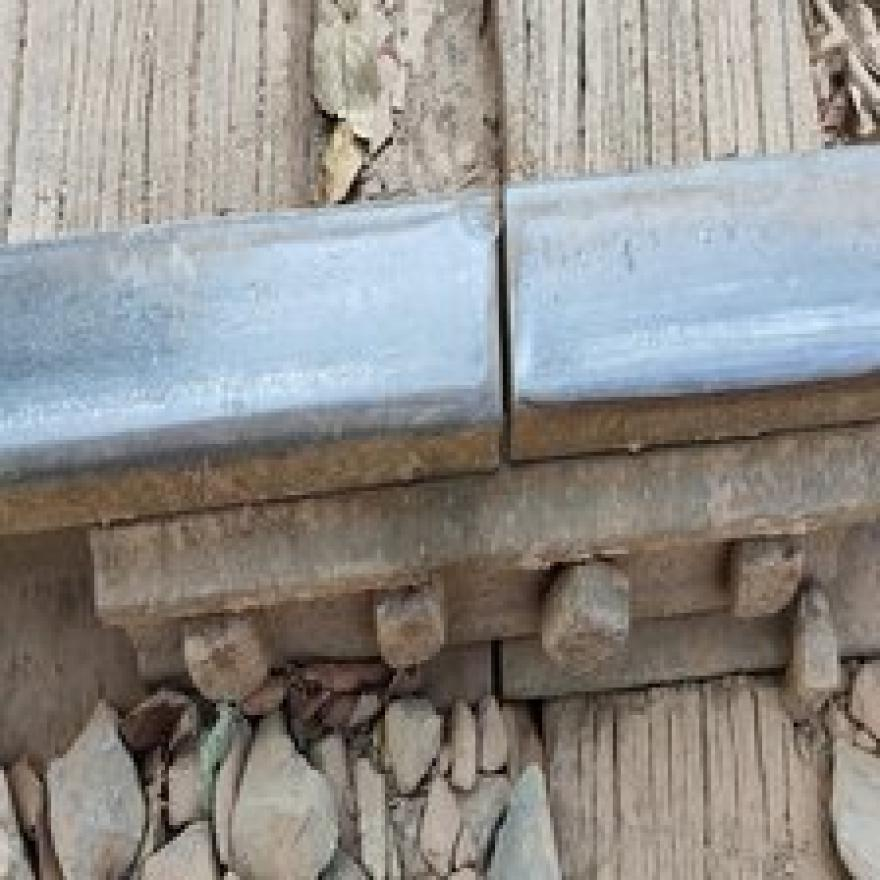railway-gap: (300, 155, 706, 510), (466, 634, 531, 698)
